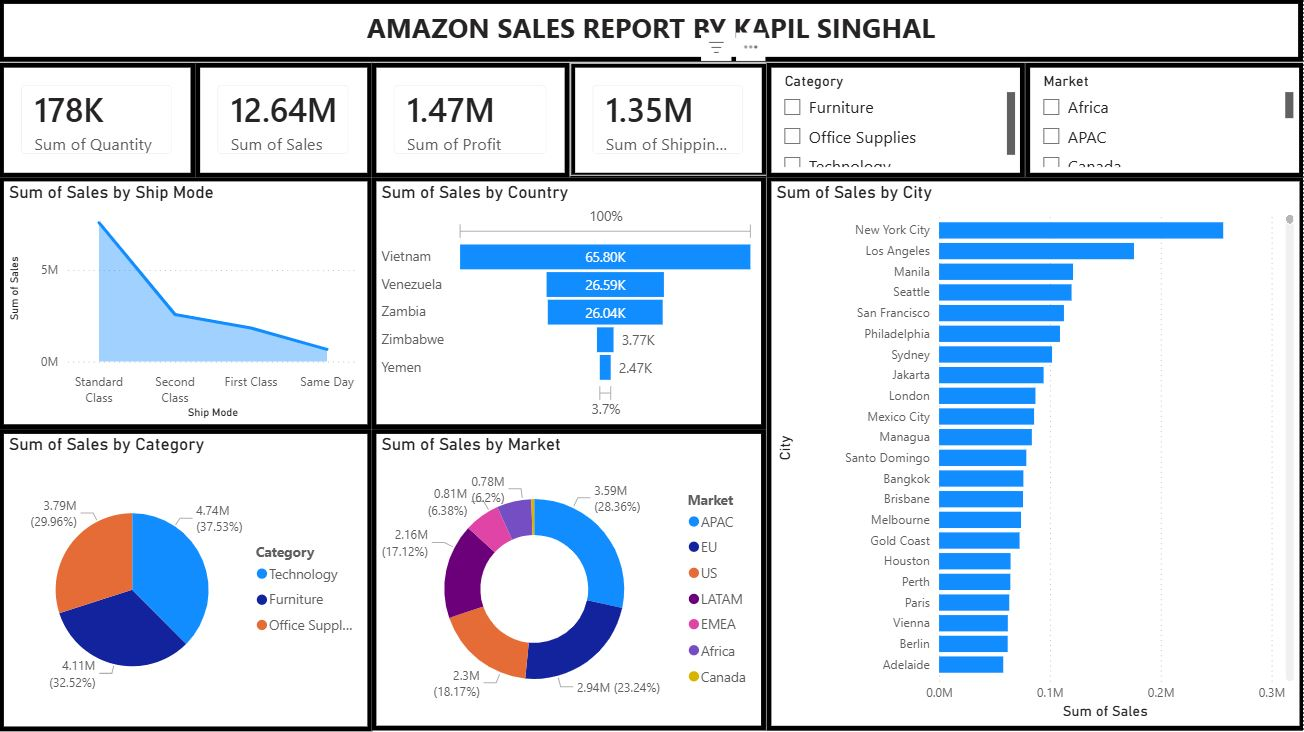

This screenshot's page, from the dashboard's own definition file:
{"tool":"powerbi","page":{"name":"Page 1","canvas":[1280,720],"ordinal":0},"visuals":[{"type":"pieChart","fields":{"Category":["Orders.Category"],"Y":["Sum(Orders.Sales)"]},"box":[0,422.5,366.2,297.2],"z":0},{"type":"donutChart","fields":{"Category":["Orders.Market"],"Y":["Sum(Orders.Sales)"]},"box":[366.2,422.5,387.3,295.8],"z":1000},{"type":"areaChart","fields":{"Category":["Orders.Ship Mode"],"Y":["Sum(Orders.Sales)"]},"box":[0,174.6,366.2,247.9],"z":2000},{"type":"barChart","fields":{"Category":["Orders.City"],"Y":["Sum(Orders.Sales)"]},"box":[753.5,174.6,528.2,543.7],"z":3000},{"type":"funnel","fields":{"Category":["Orders.Country"],"Y":["Sum(Orders.Sales)"]},"box":[366.2,174.6,387.3,247.9],"z":4000},{"type":"textbox","box":[0,0,1280.3,62],"z":5000},{"type":"cardVisual","fields":{"Data":["Sum(Orders.Quantity)"]},"box":[0,62,193,112.7],"z":6000},{"type":"cardVisual","fields":{"Data":["Sum(Orders.Sales)"]},"box":[193,62,173.2,112.7],"z":7000},{"type":"cardVisual","fields":{"Data":["Sum(Orders.Profit)"]},"box":[366.2,62,194.4,112.7],"z":8000},{"type":"cardVisual","fields":{"Data":["Sum(Orders.Shipping Cost)"]},"box":[560.6,62,193,112.7],"z":9000},{"type":"slicer","fields":{"Values":["Orders.Category"]},"box":[753.5,62,253.5,112.7],"z":10000},{"type":"slicer","fields":{"Values":["Orders.Market"]},"box":[1007,62,273.2,112.7],"z":11000}]}

Visuals, with their boxes in screenshot pixels (x1, y1, x2, y2), scaled from the page's 1280x720 canvas onto the 1304x732 screenshot:
pieChart - Orders.Category x Sum(Orders.Sales): 0, 430, 373, 731
donutChart - Orders.Market x Sum(Orders.Sales): 373, 430, 768, 730
areaChart - Orders.Ship Mode x Sum(Orders.Sales): 0, 178, 373, 430
barChart - Orders.City x Sum(Orders.Sales): 768, 178, 1303, 730
funnel - Orders.Country x Sum(Orders.Sales): 373, 178, 768, 430
textbox: 0, 0, 1303, 63
cardVisual - Sum(Orders.Quantity): 0, 63, 197, 178
cardVisual - Sum(Orders.Sales): 197, 63, 373, 178
cardVisual - Sum(Orders.Profit): 373, 63, 571, 178
cardVisual - Sum(Orders.Shipping Cost): 571, 63, 768, 178
slicer - Orders.Category: 768, 63, 1026, 178
slicer - Orders.Market: 1026, 63, 1303, 178
